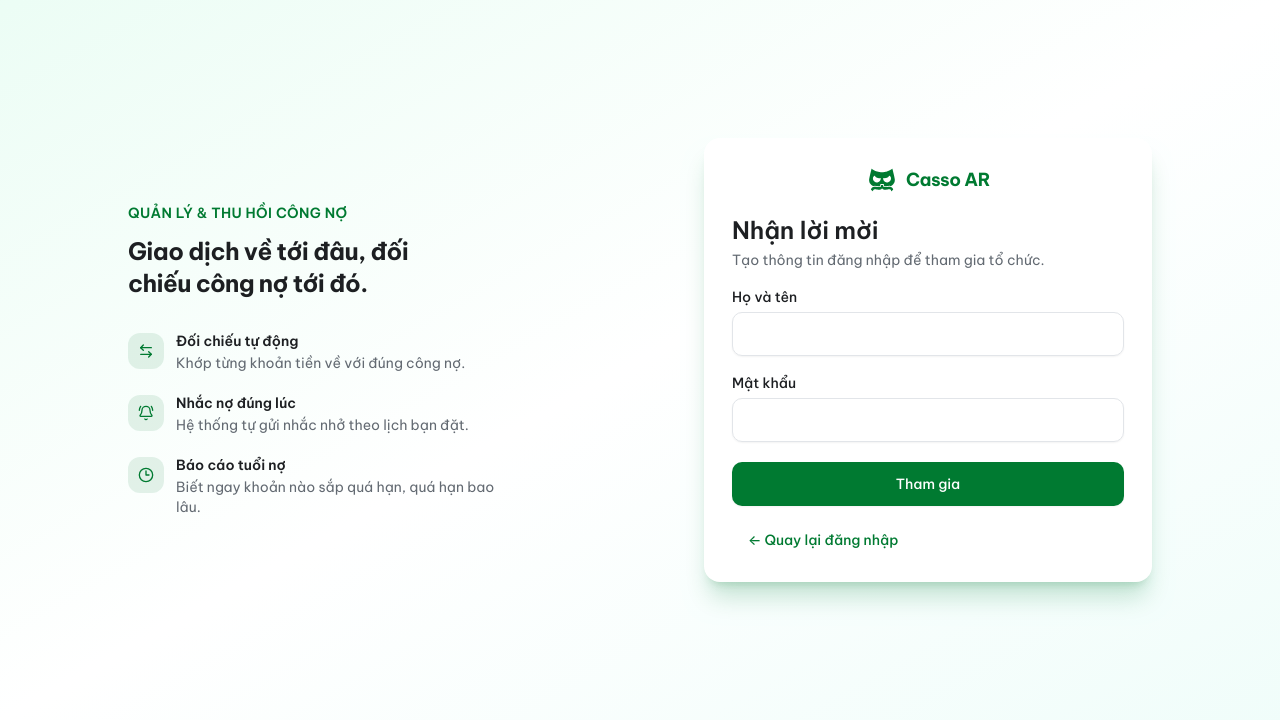
invite acceptance › offers a way back to login when the invite is rejected
This screenshot has width=1280, height=720.
Type "Invitee Name" into the field labelled "Họ và tên". click: (928, 334)
box: [732,312,1124,356]
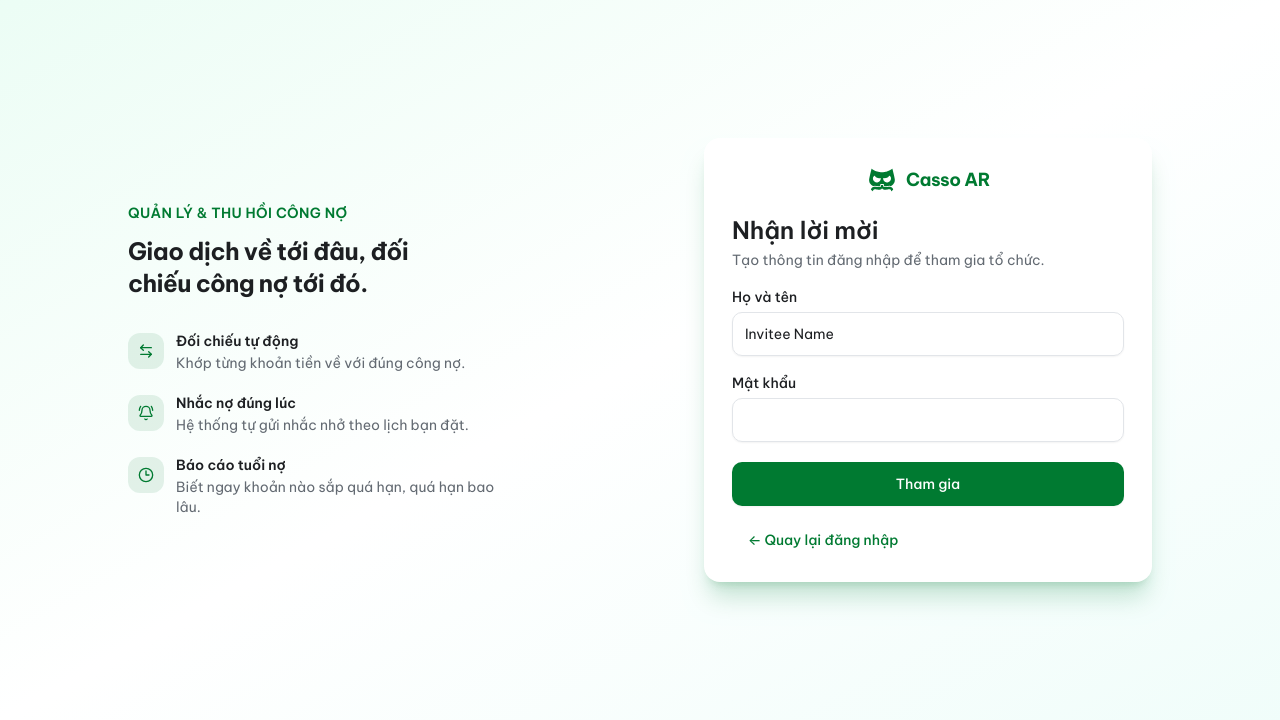
Type "secret123" into the password field labelled "Mật khẩu". click: (928, 420)
box: [732,398,1124,442]
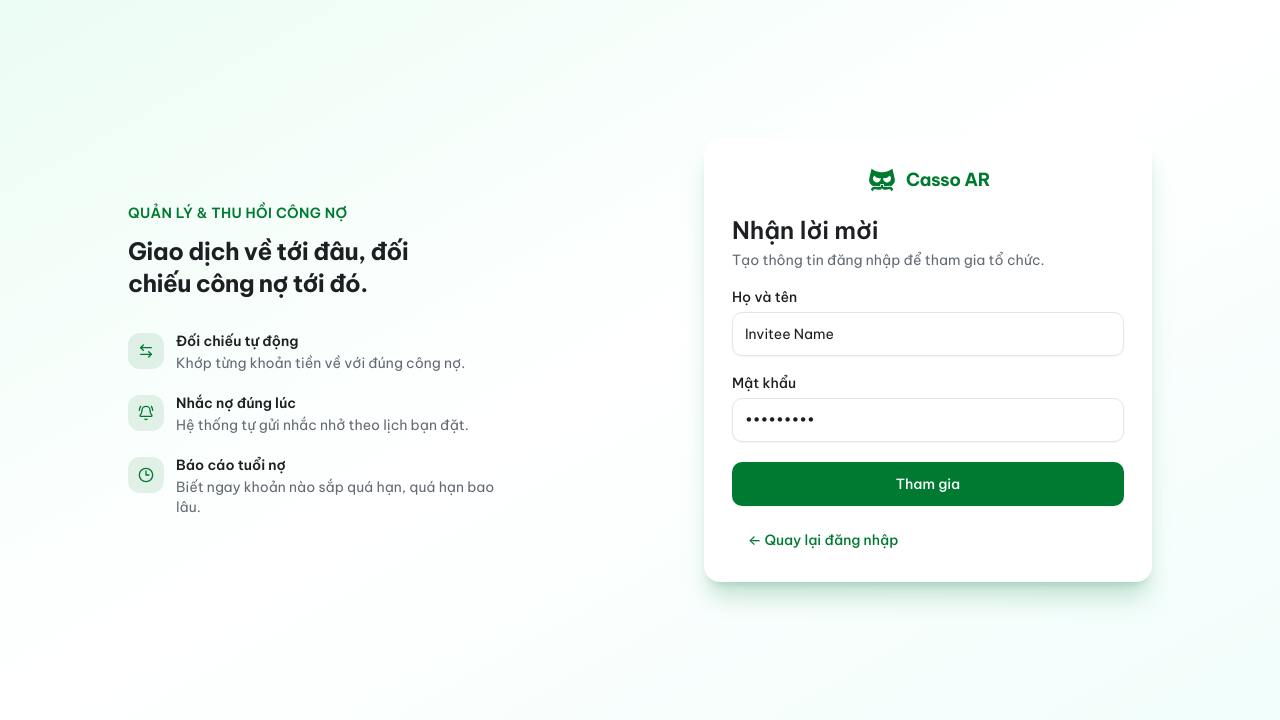
Click the button "Tham gia". click: click(928, 484)
box: [732,462,1124,506]
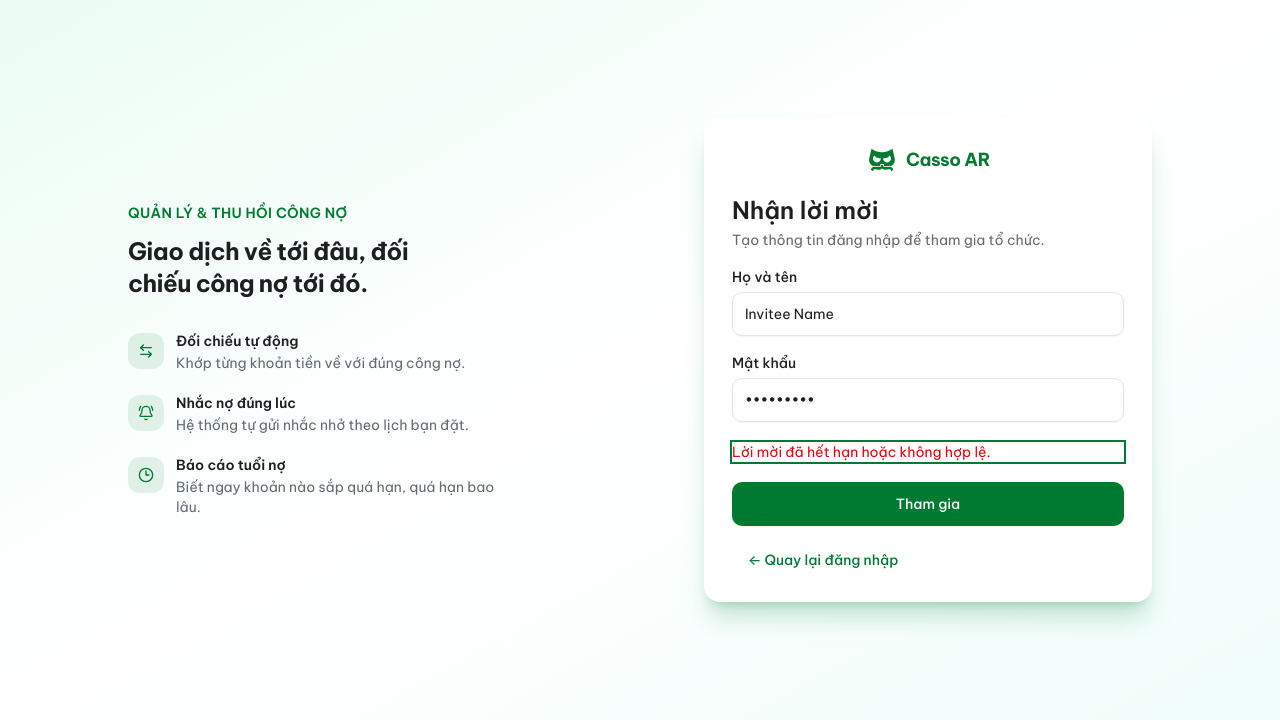
Check: the text "Lời mời đã hết hạn hoặc không hợp lệ." is shown, box [732,442,1124,462]
